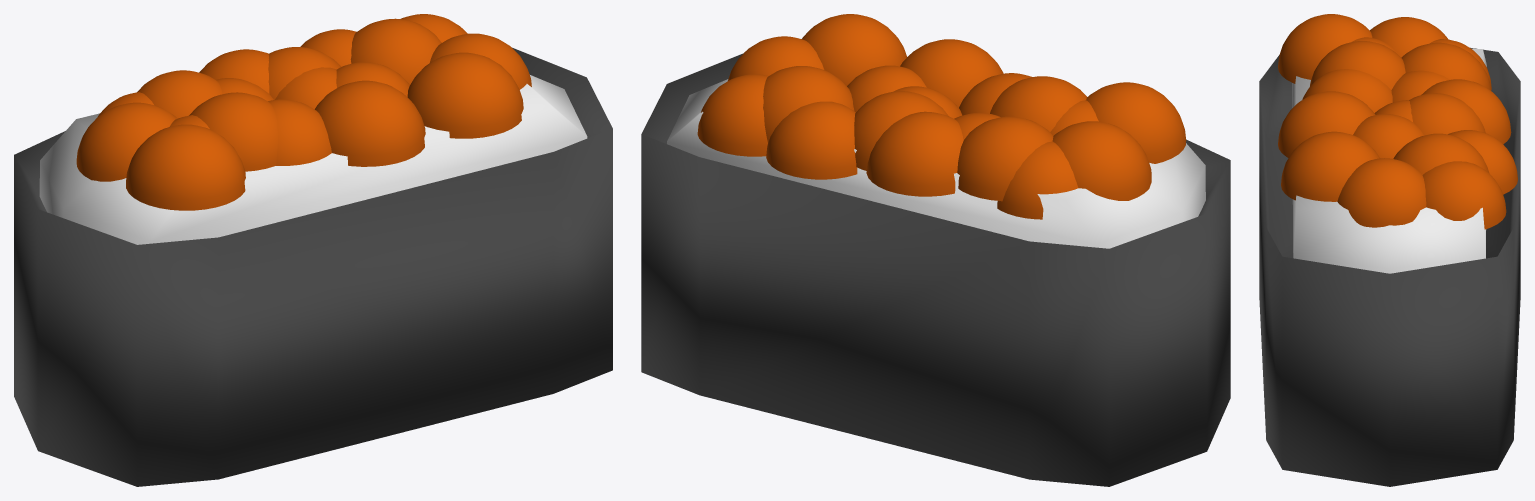
File: sushi3.fbx
3 renders of one model, left to right at view 1: azimuth 30°, elevation 25°; view 2: azimuth 150°, elevation 25°; view 3: azimuth 270°, elevation 25°, orthographic. The views are drawn at different scales.
Visible parts, largest first — view 1: 立方体, Cube, 球.007, 球.010, 球.008, 球, 球.005, 球.013, 球.004, 球.002, 球.011, 球.015 (+6 smaller); view 2: 立方体, Cube, 球.016, 球.014, 球, 球.002, 球.007, 球.010, 球.012, 球.008, 球.013, 球.001 (+7 smaller); view 3: 立方体, Cube, 球.011, 球.010, 球.012, 球.008, 球.007, 球.005, 球.002, 球.015, 球.013, 球.016 (+7 smaller).
Boxes of the visible parts, x1,y1,x2,y2 form: 立方体: (14, 47, 612, 486); Cube: (39, 75, 587, 244); 球.007: (126, 124, 245, 210); 球.010: (407, 52, 523, 138); 球.008: (315, 80, 425, 166); 球: (76, 102, 177, 181); 球.005: (189, 92, 278, 171); 球.013: (350, 18, 441, 84); 球.004: (268, 99, 331, 165); 球.002: (137, 70, 222, 118); 球.011: (430, 33, 531, 89); 球.015: (268, 47, 341, 99); 立方体: (641, 53, 1230, 486); Cube: (667, 79, 1205, 248); 球.016: (866, 111, 963, 196); 球.014: (766, 101, 857, 179); 球: (1052, 121, 1151, 200); 球.002: (957, 116, 1053, 201); 球.007: (1086, 82, 1186, 163); 球.010: (802, 14, 906, 85); 球.012: (697, 74, 768, 156); 球.008: (900, 39, 1003, 107); 球.013: (763, 66, 854, 142); 球.001: (997, 141, 1078, 219); 立方体: (1259, 47, 1520, 486); Cube: (1292, 48, 1486, 273); 球.011: (1337, 158, 1426, 227); 球.010: (1281, 131, 1379, 201); 球.012: (1422, 161, 1506, 229); 球.008: (1278, 91, 1375, 157); 球.007: (1278, 14, 1372, 83); 球.005: (1310, 41, 1405, 90); 球.002: (1401, 42, 1491, 90); 球.015: (1409, 93, 1485, 135); 球.013: (1393, 133, 1489, 174); 球.016: (1421, 79, 1511, 144).
Bounding box in the file's own units: 1.5 × 3.2 × 1.8.
